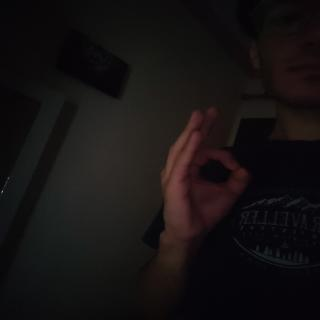Space: (155, 104, 251, 235)
